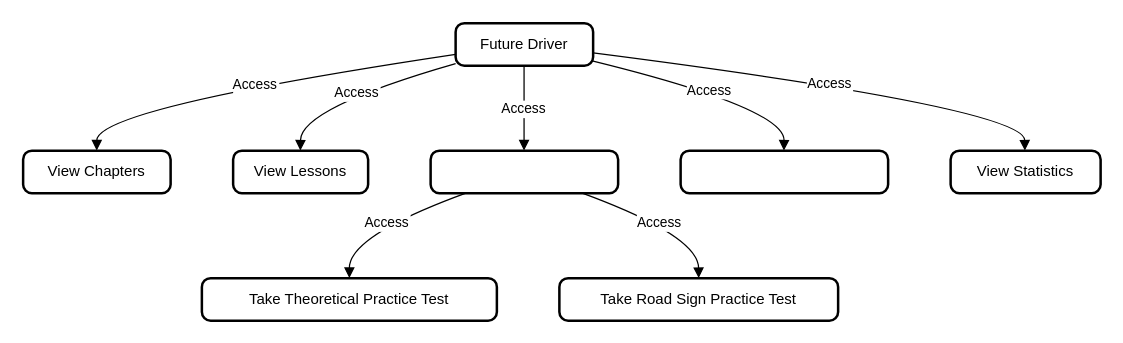
The diagram is 1123 pixels wide and 343 high, and some of its shapes have lost their labels. Each missing label, with the box of its shape:
Take Exam Simulator: (679, 149, 889, 194)
Take Practice Quiz: (429, 149, 619, 194)
